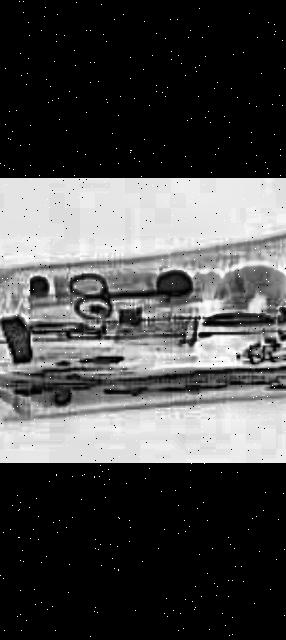Scissors: (64, 266, 192, 316)
